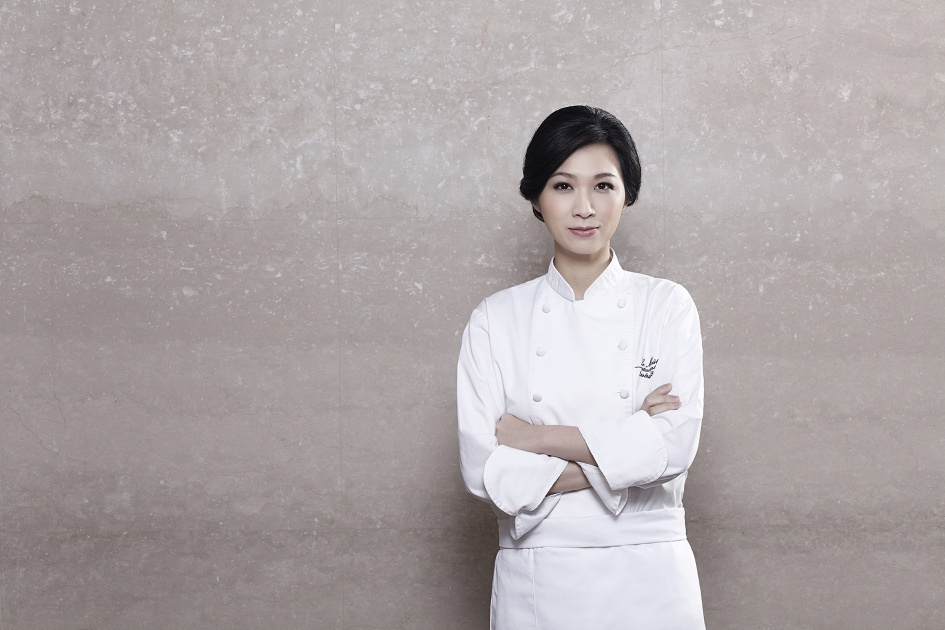female: (511, 100, 679, 276)
